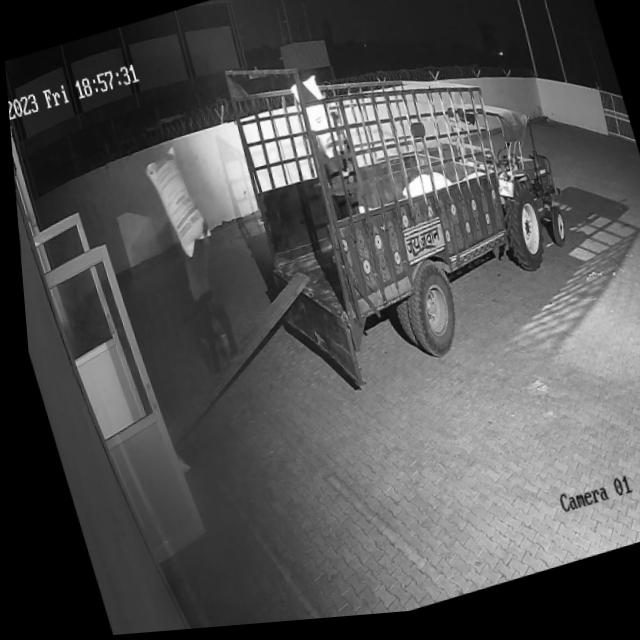sack: (137, 143, 212, 266)
